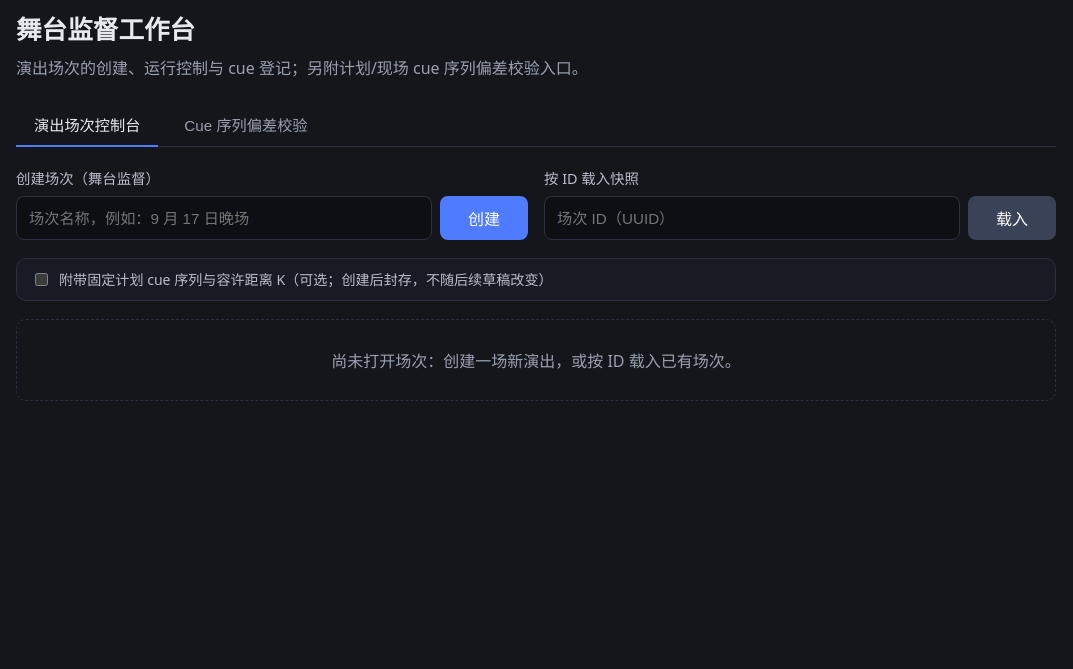
Test case: planned-session deviation hint UI › shows legacy note for an unplanned session and the per-version hint for a planned one
// Legacy create (toggle off).
Step 1. Type "旧场次" into the field with placeholder "场次名称，例如：9 月 17 日晚场" → (224, 218), box [16,196,432,240]
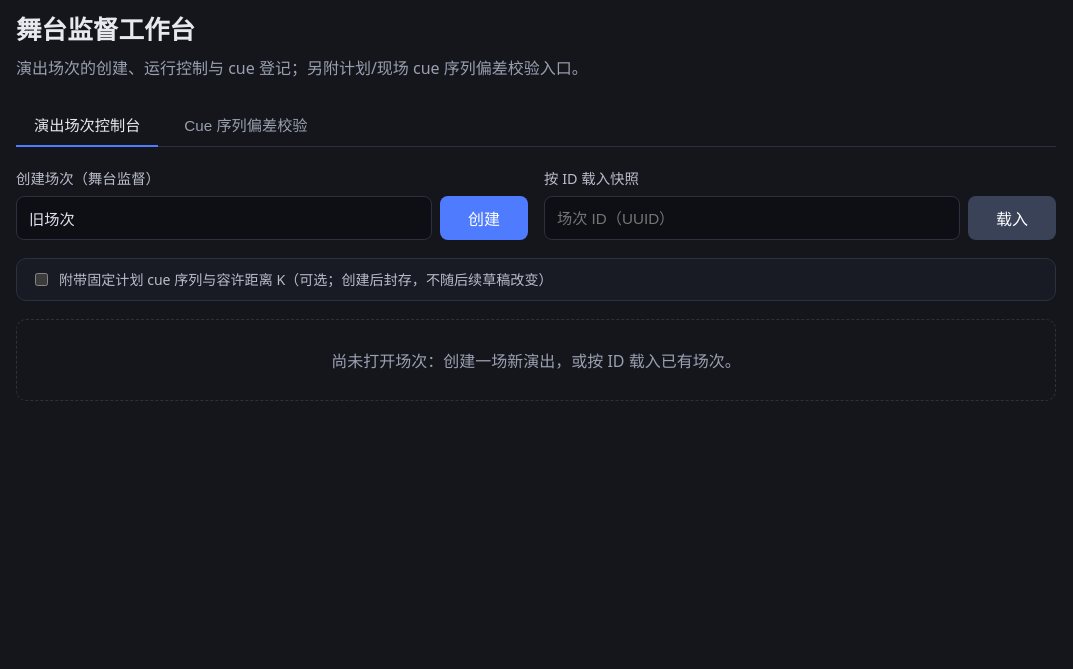
Step 2. Click the button "创建" → click(484, 218), box [440,196,528,240]
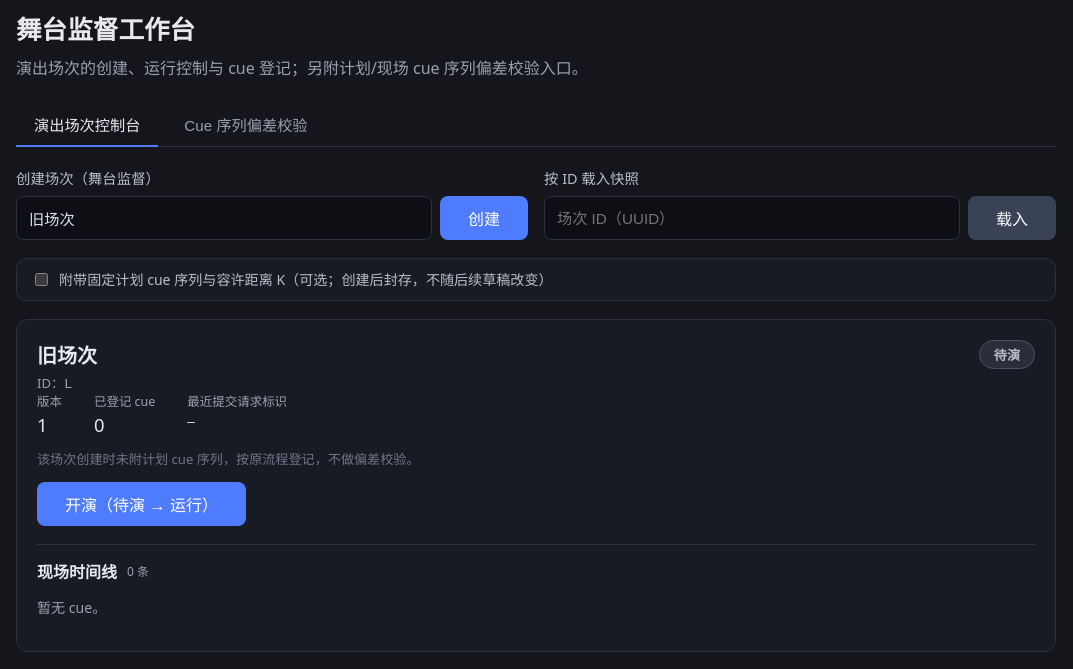
Result: the text "该场次创建时未附计划 cue 序列，按原流程登记，不做偏差校验。" is shown at [37,450,420,468]
